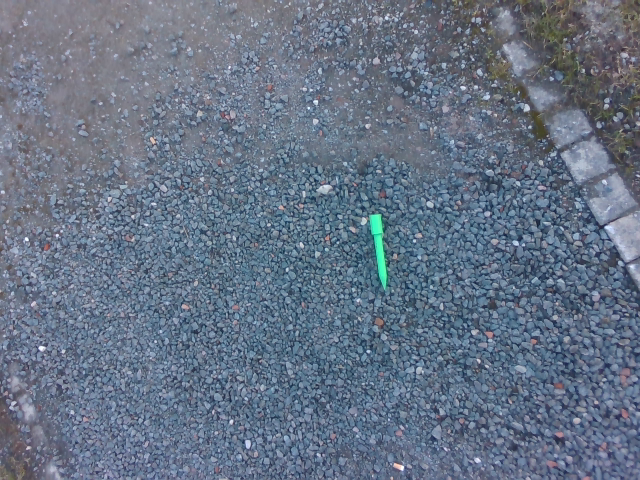Probe: (365, 211, 393, 290)
